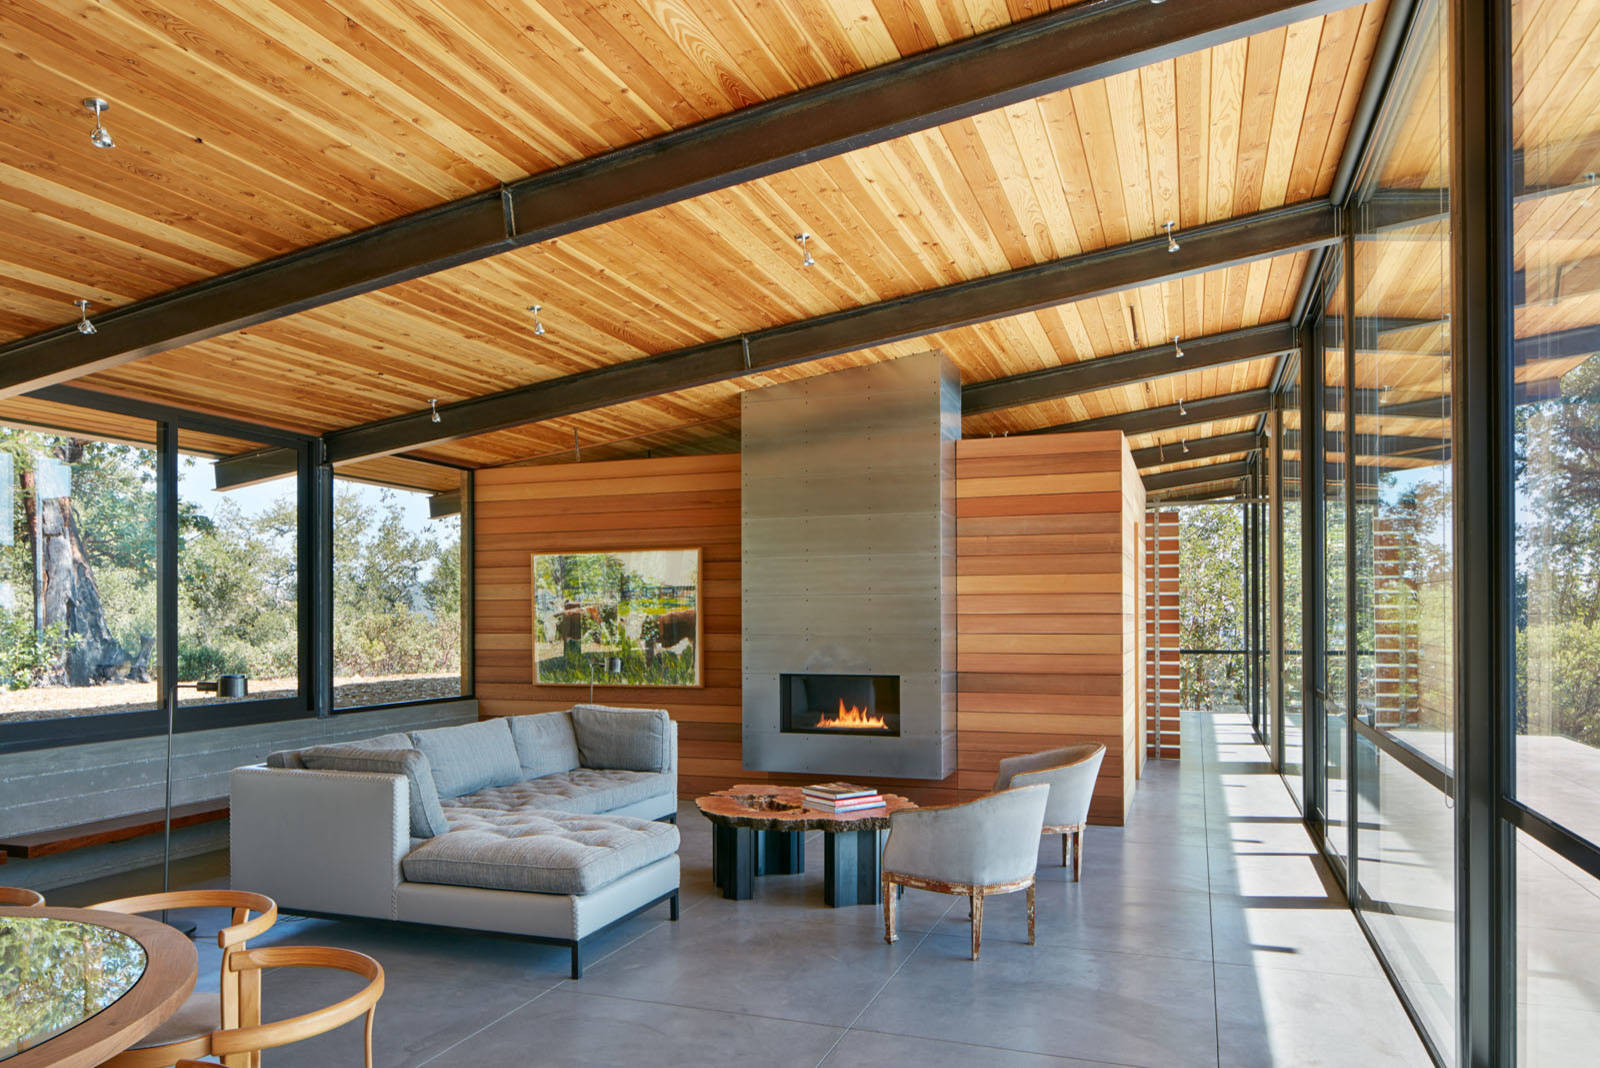chair: (873, 780, 1051, 964), (994, 738, 1112, 881)
dining table set: (0, 875, 392, 1068)
sofa: (223, 701, 687, 986)
table: (693, 769, 905, 907)
wall art: (524, 544, 706, 695)
